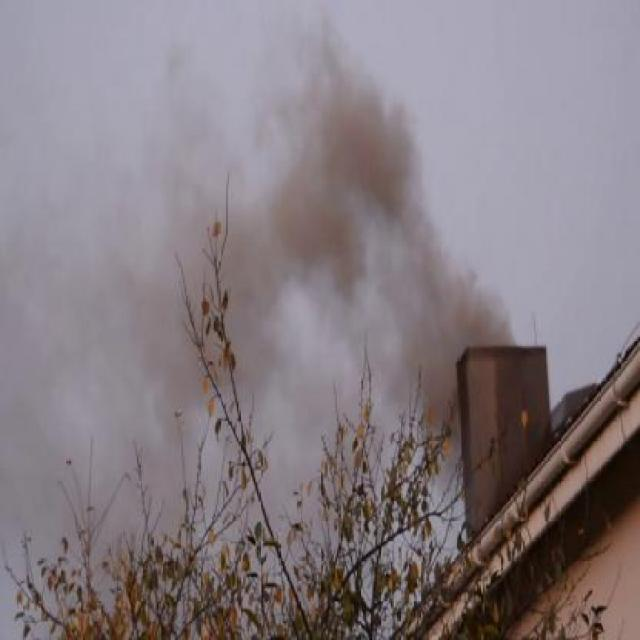smoke: (233, 37, 512, 346)
